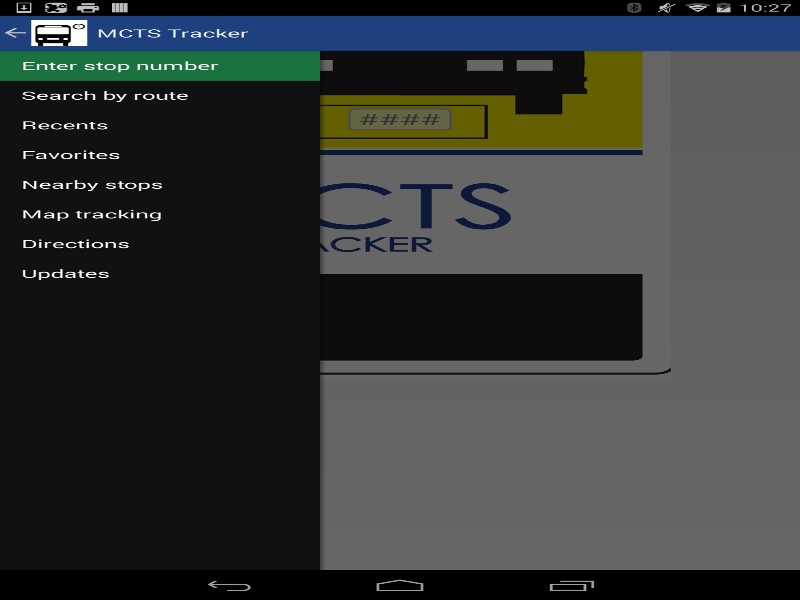Input: (348, 108, 451, 130)
